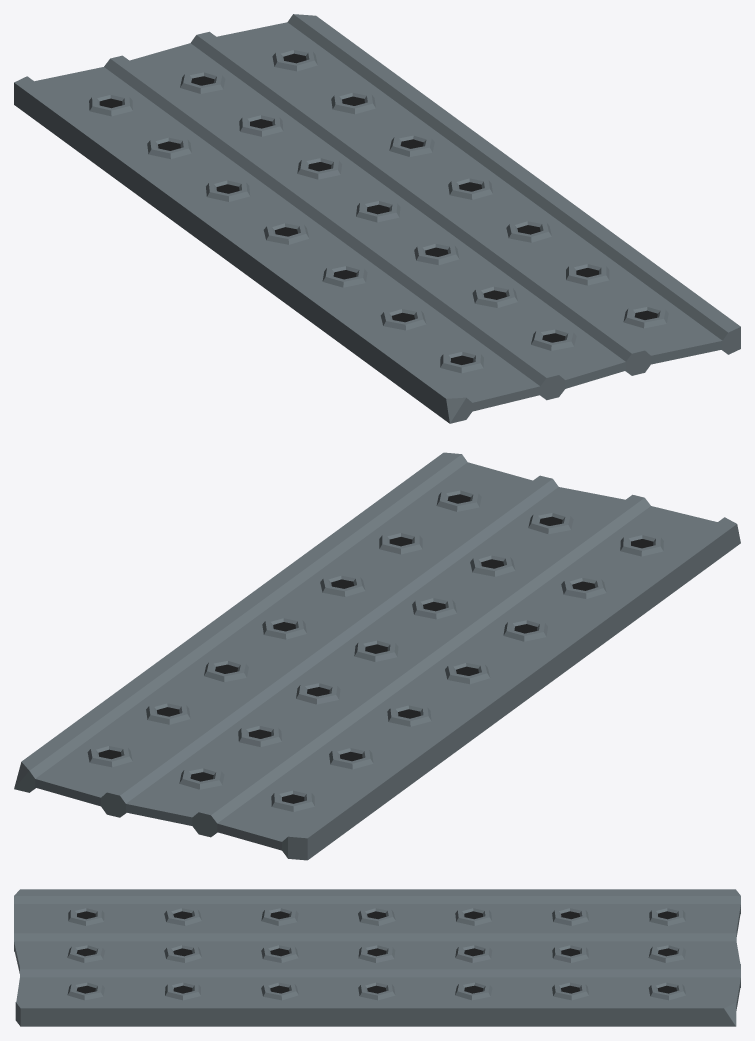
The model's file is SM_Veh_Attach_Ramp_01.fbx.
The picture shows the model from 3 angles, top to bottom: view 1: azimuth 30°, elevation 25°; view 2: azimuth 150°, elevation 25°; view 3: azimuth 270°, elevation 25°; orthographic projection. The views are drawn at different scales.
Parts seen in each view (by area): view 1: SM_Veh_Attach_Ramp_01; view 2: SM_Veh_Attach_Ramp_01; view 3: SM_Veh_Attach_Ramp_01.
Part boxes in pixels (<box>): SM_Veh_Attach_Ramp_01: <box>14,14,740,423</box>; SM_Veh_Attach_Ramp_01: <box>14,452,740,860</box>; SM_Veh_Attach_Ramp_01: <box>14,889,740,1026</box>.
Size of the model in its own units: 88.86 by 6.41 by 229.
